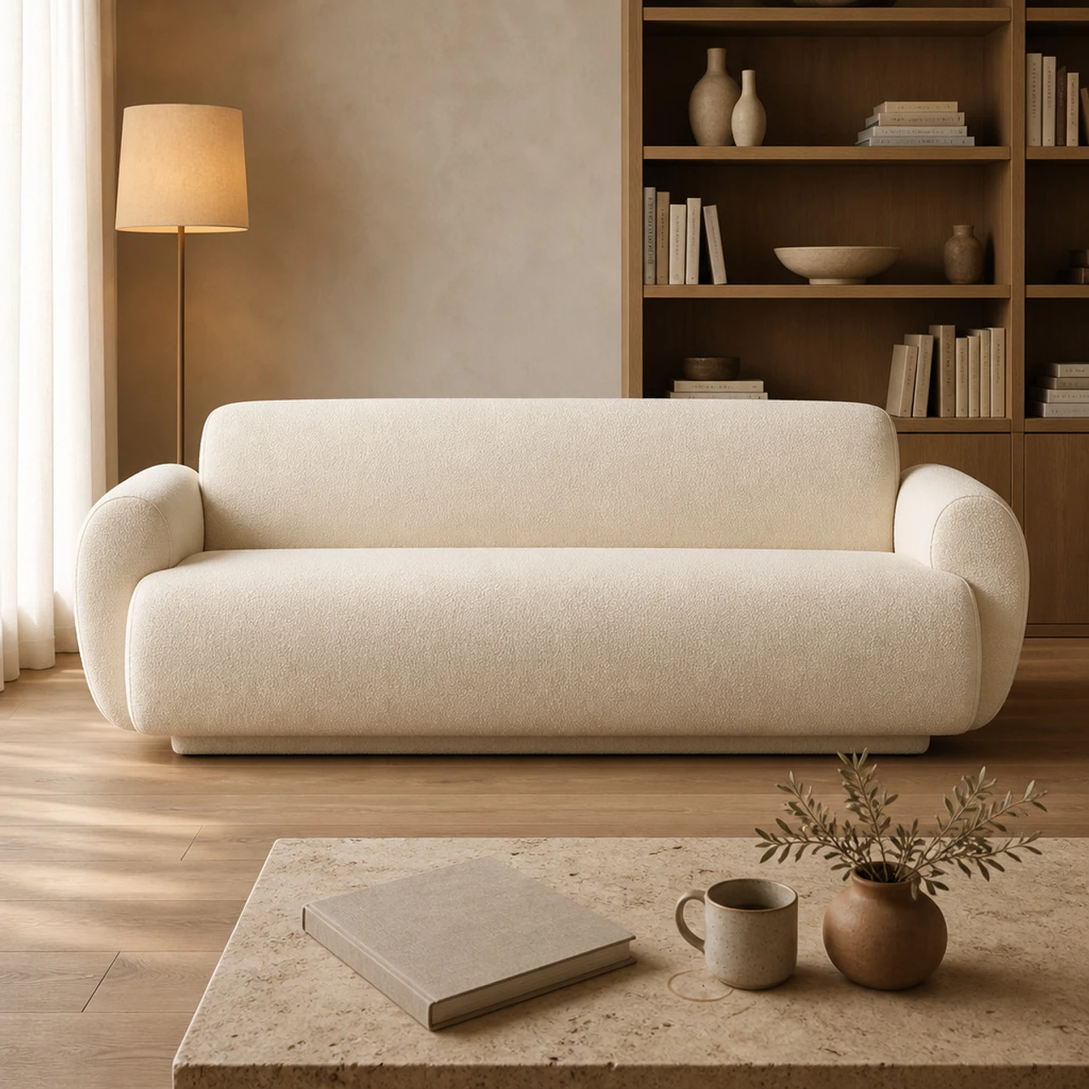3seatersofa: (80, 399, 1024, 752)
backrest: (199, 398, 898, 550)
leftarmrest: (895, 465, 1028, 727)
leg: (172, 735, 927, 755)
rightarmrest: (77, 465, 202, 728)
seat: (128, 549, 979, 738)
